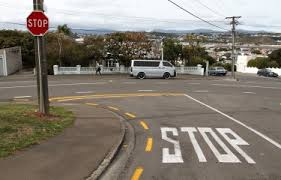stop: (27, 9, 50, 37)
